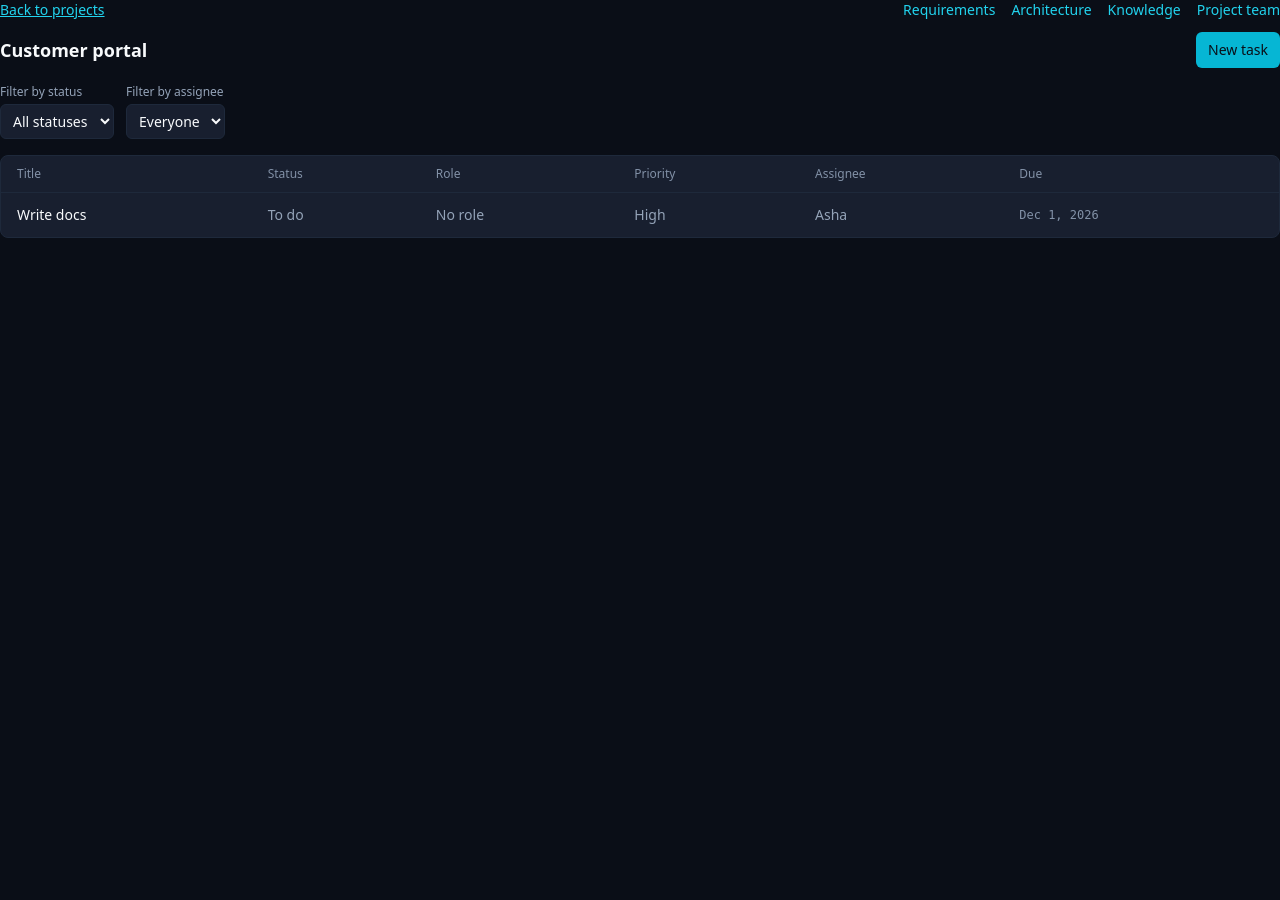
TaskListPage › keeps typed text when the project is archived during an edit
The width and height of the screenshot is (1280, 900).
Click the button "Write docs".
click(52, 215)  # box [17,205,86,225]
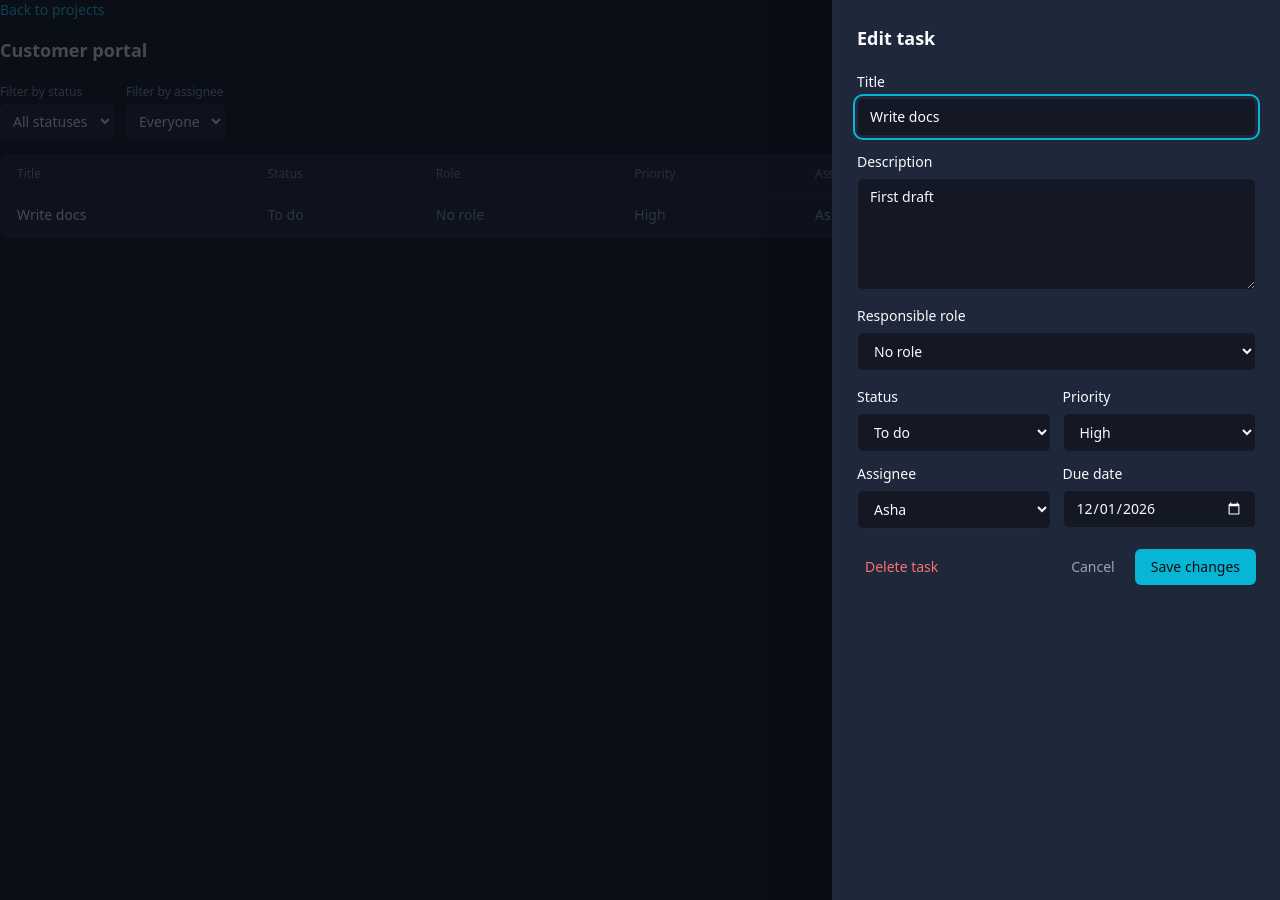
Replace the text in the field labelled "Title" with "My unsaved title" at {"x": 1056, "y": 117}, box [857,98,1256,136]
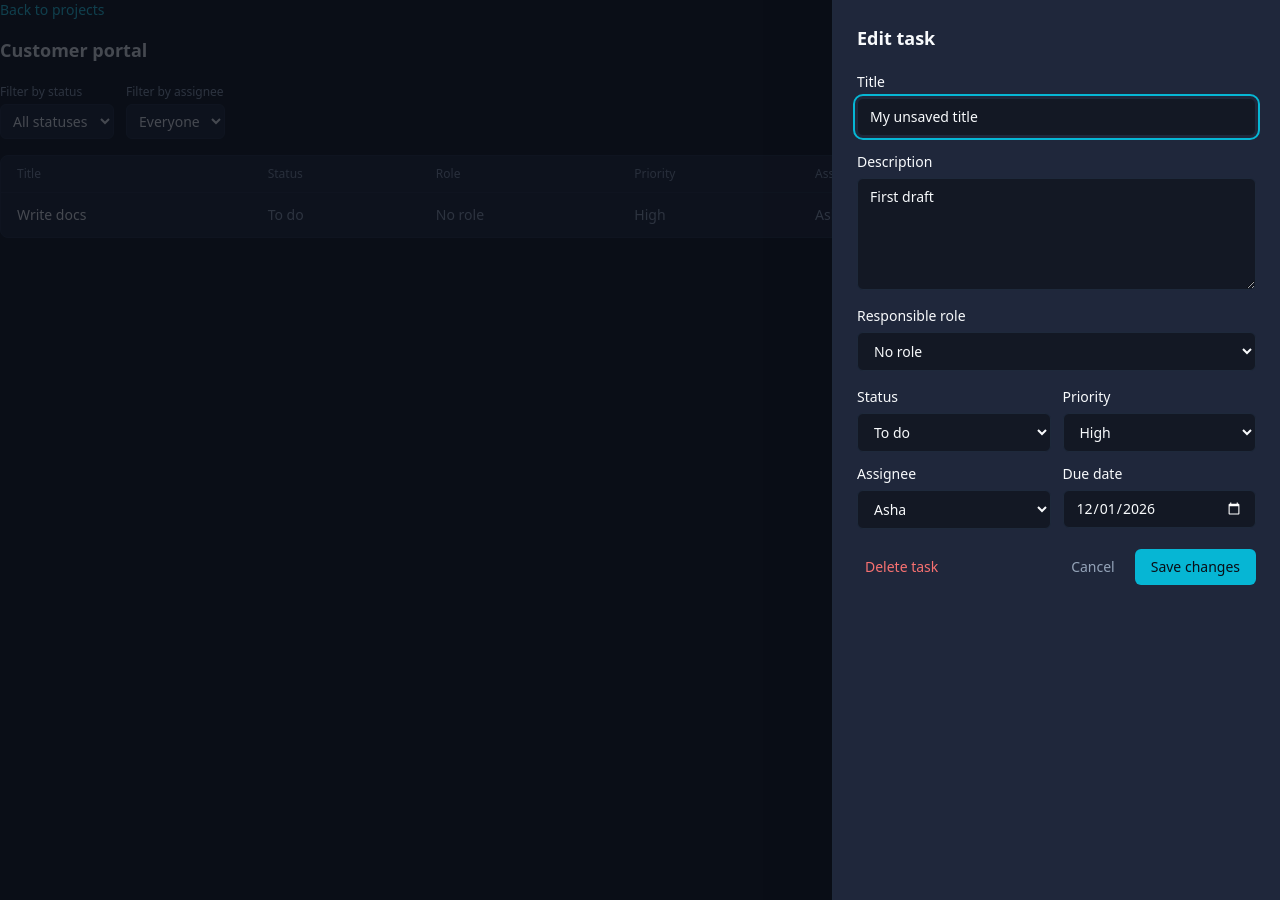
Click the button "Save changes".
click(1195, 567)  # box [1135,549,1256,585]
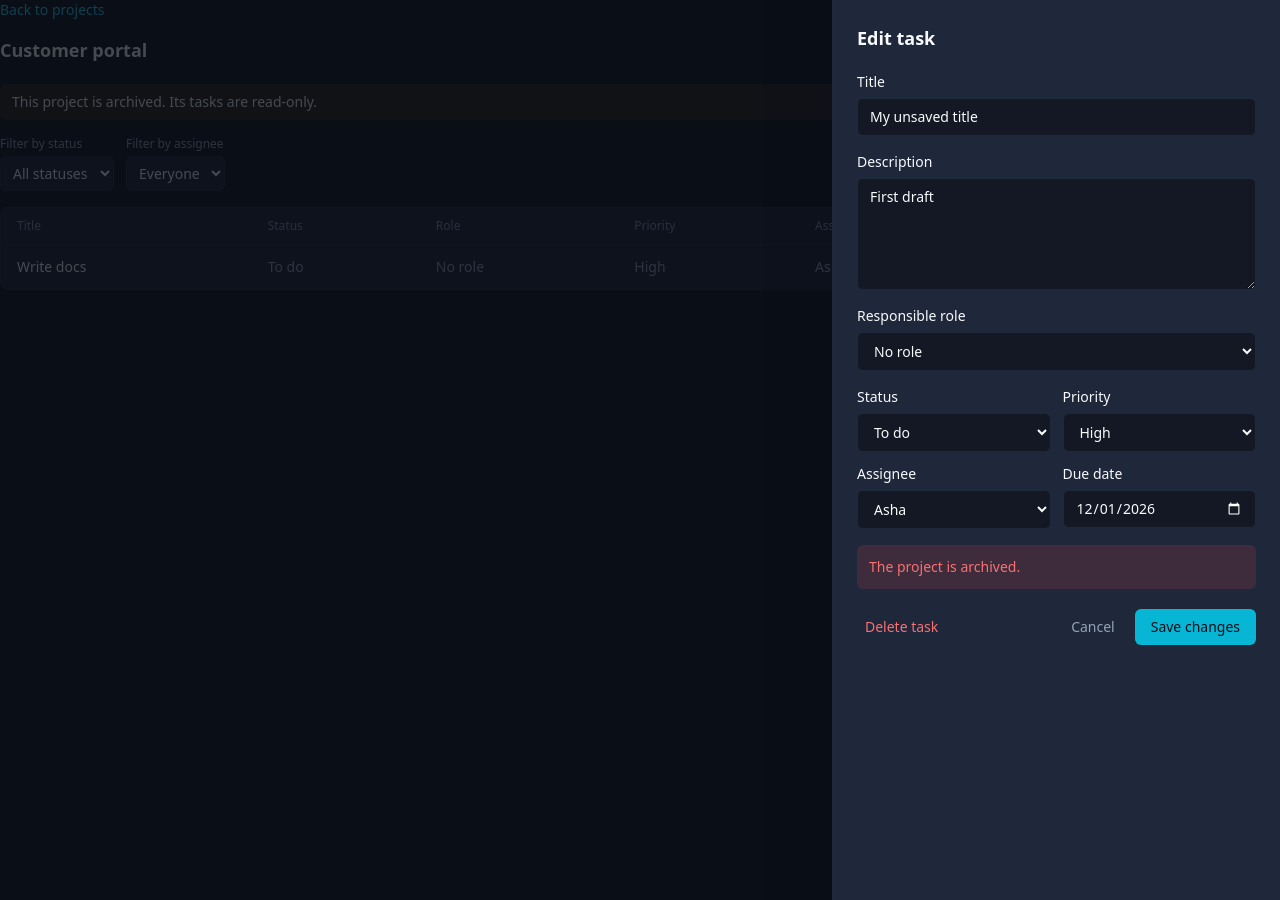
Now the text "This project is archived. Its tasks are read-only." is shown, box [0,84,1279,120]
Now the message reads "The project is archived.", box [869,557,1020,576]
